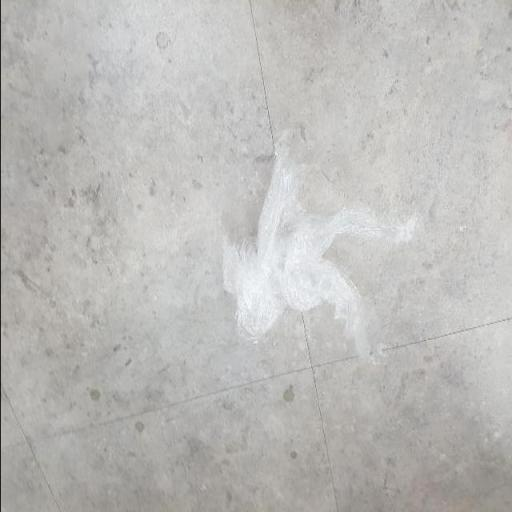plastic-bag: (221, 128, 419, 368)
